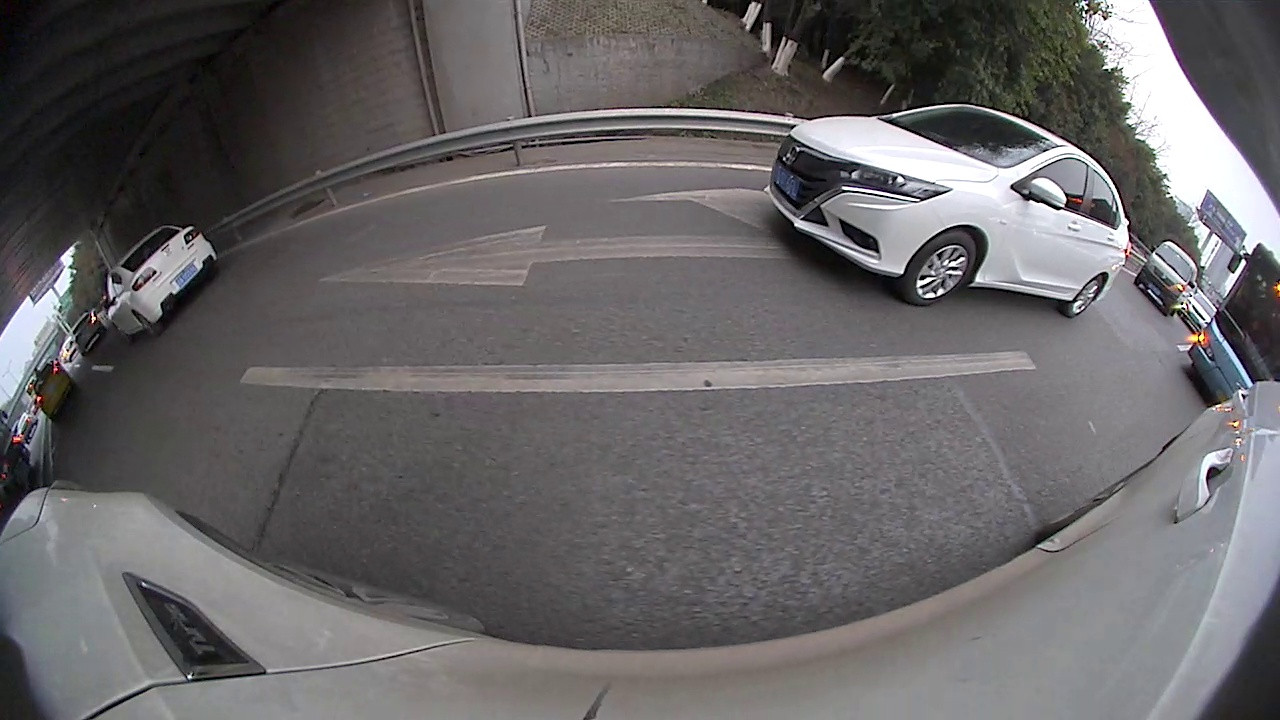bus: (1186, 239, 1279, 407)
car: (761, 101, 1136, 318), (100, 221, 221, 348), (1133, 238, 1201, 320), (23, 359, 79, 423)
front: (898, 226, 976, 307)
rear: (1059, 271, 1106, 320)
